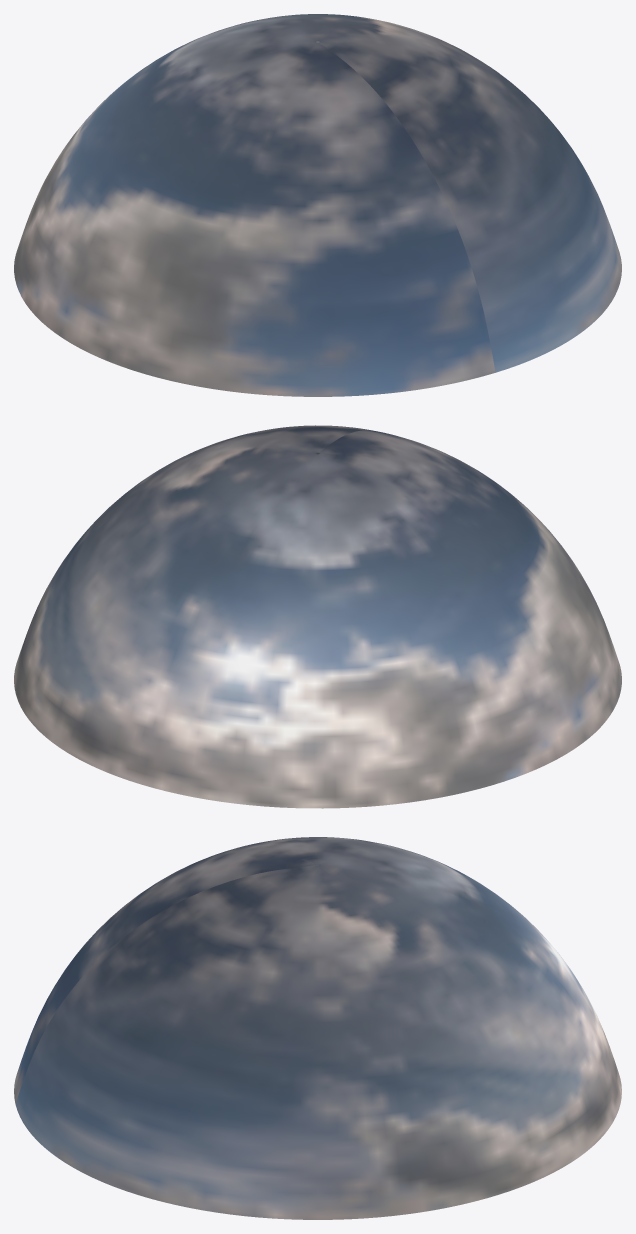
File: postwar_city_-_exterior_scene.glb
3 views of the same model, one above another, from view 1: azimuth 30°, elevation 25°; view 2: azimuth 150°, elevation 25°; view 3: azimuth 270°, elevation 25° (orthographic).
Visible parts, largest first — view 1: Sphere_0; view 2: Sphere_0; view 3: Sphere_0.
Boxes of the visible parts, x1=… form: Sphere_0: x1=14, y1=14, x2=621, y2=396; Sphere_0: x1=14, y1=425, x2=621, y2=808; Sphere_0: x1=14, y1=837, x2=621, y2=1219.
Size of what is drawn, in the model's own units: 168 by 69.07 by 168.
Materials: 24 (24 with a texture image).
